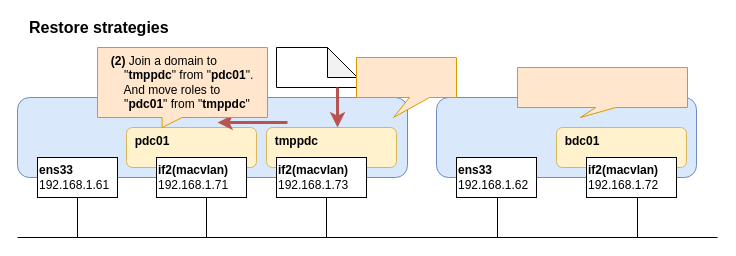
Some shapes in this 736 by 256 pixel diagram are drawn without their labels. Each missing label, with the box of its shape:
(1) Restore data to " tmppdc ": (356, 56, 456, 118)
(3) Rejoin a domein to " pdc01 " from " bdc01 ": (516, 66, 688, 118)
Backup data: (276, 46, 358, 88)
hbdc: (436, 96, 696, 178)
hpdc: (16, 96, 408, 178)
